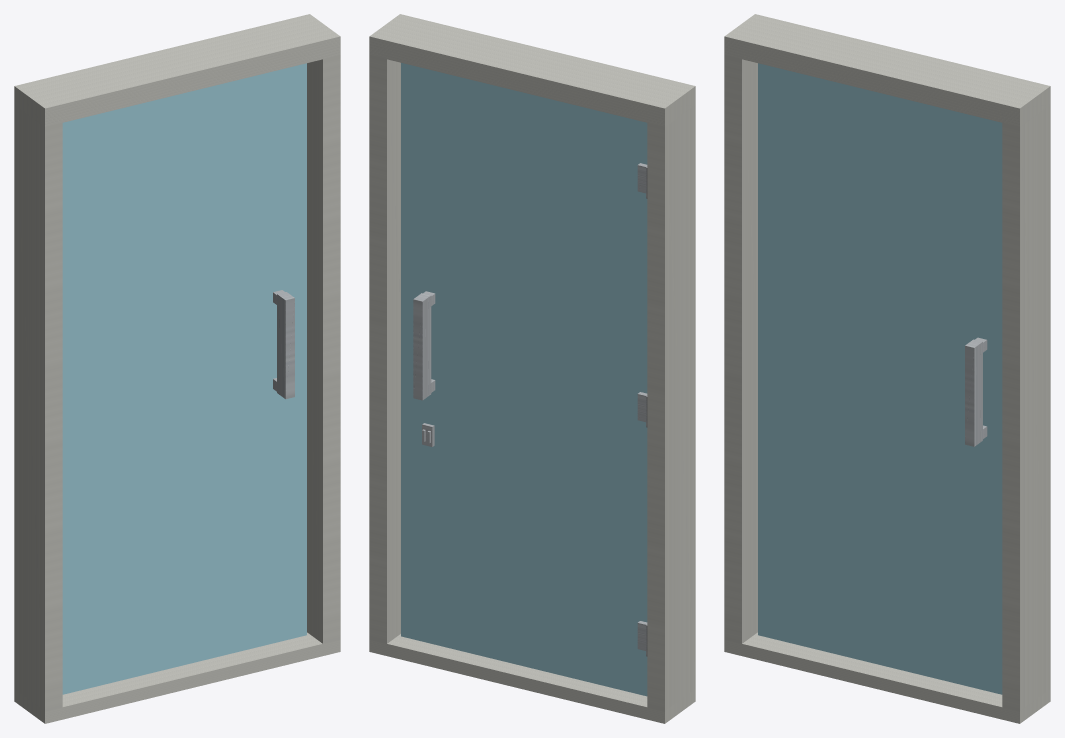
The model's file is door-glass-1.glb.
3 renders of one model, left to right at view 1: azimuth 30°, elevation 25°; view 2: azimuth 150°, elevation 25°; view 3: azimuth 330°, elevation 25°, orthographic.
Visible parts, largest first — view 1: passenger-swing-door, DoorGlass1; view 2: passenger-swing-door, DoorGlass1; view 3: passenger-swing-door, DoorGlass1.
Part boxes in pixels (bbox=[...]): passenger-swing-door: bbox=[62, 63, 306, 694]; DoorGlass1: bbox=[14, 14, 340, 723]; passenger-swing-door: bbox=[401, 63, 647, 696]; DoorGlass1: bbox=[369, 14, 695, 723]; passenger-swing-door: bbox=[758, 63, 1002, 694]; DoorGlass1: bbox=[724, 14, 1050, 723].
Bounding box in the file's own units: 1 × 1.99 × 0.19.
3 materials, 2 textured.
